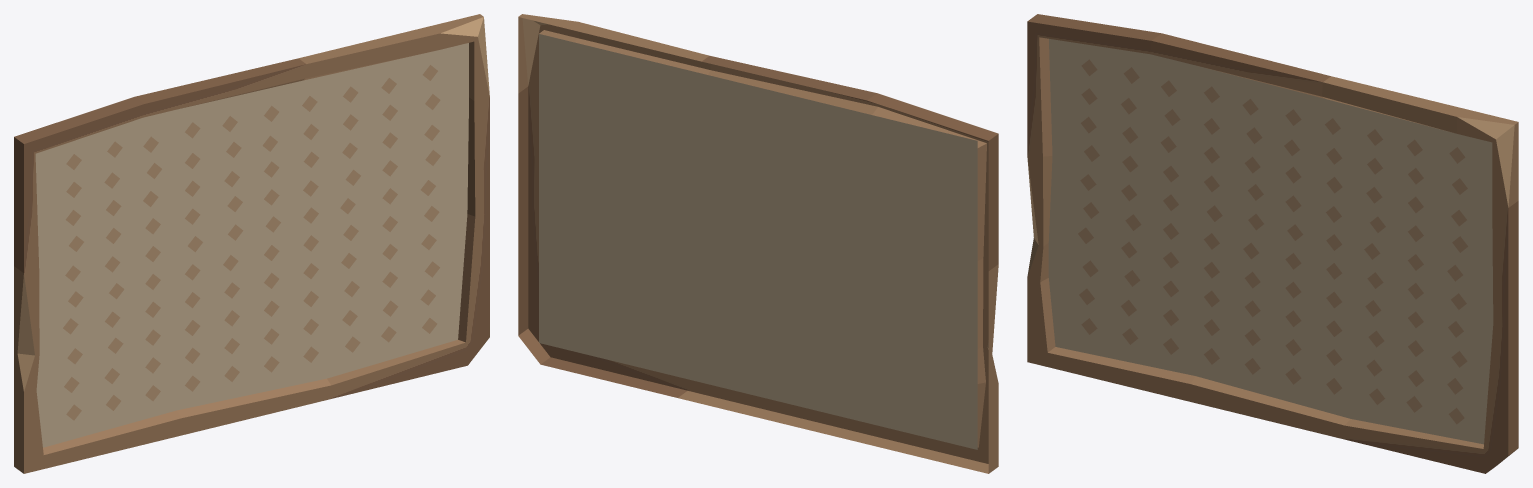
The model's file is SM_Stand.fbx.
The picture shows the model from 3 angles, left to right: view 1: azimuth 30°, elevation 25°; view 2: azimuth 150°, elevation 25°; view 3: azimuth 330°, elevation 25°; orthographic projection. The views are drawn at different scales.
Visible parts, largest first — view 1: SM_Stand; view 2: SM_Stand; view 3: SM_Stand.
Part boxes in pixels (bbox=[...]): SM_Stand: bbox=[14, 14, 489, 473]; SM_Stand: bbox=[518, 14, 998, 473]; SM_Stand: bbox=[1027, 14, 1518, 473].
Size of the model in its own units: 134 by 93.69 by 4.97.
